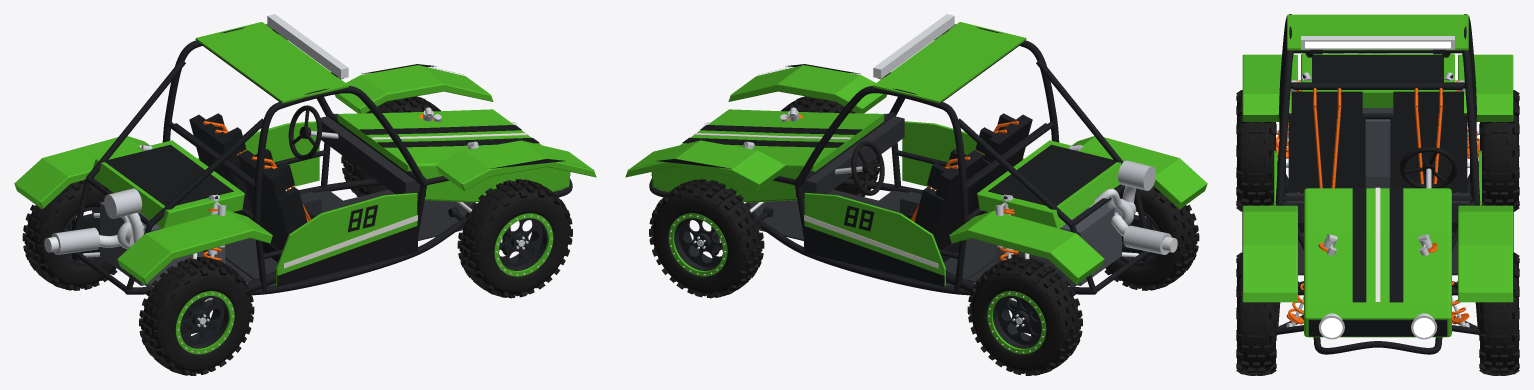
File: viper_rs_turbo.glb
The picture shows the model from 3 angles, left to right: view 1: azimuth 30°, elevation 25°; view 2: azimuth 150°, elevation 25°; view 3: azimuth 270°, elevation 25°; orthographic projection. The views are drawn at different scales.
Visible parts, largest first — view 1: bodywork, roll_cage_chassis, graphics_black, wheel_RR_tyre, wheel_FR_tyre, floor_dash, wheel_RL_tyre, seat_passenger_shell, seat_driver_shell, wheel_FR_rim, wheel_RR_rim, engine (+9 smaller); view 2: bodywork, roll_cage_chassis, graphics_black, wheel_RL_tyre, wheel_FL_tyre, floor_dash, wheel_RR_tyre, seat_driver_shell, engine, seat_passenger_shell, wheel_FL_rim, wheel_RL_rim (+10 smaller); view 3: bodywork, graphics_black, seat_passenger_shell, roll_cage_chassis, seat_driver_shell, wheel_RL_tyre, wheel_RR_tyre, wheel_FL_tyre, wheel_FR_tyre, light_lenses, light_housings, engine (+10 smaller).
Part boxes in pixels (bbox=[...]): bodywork: bbox=[14, 22, 596, 285]; roll_cage_chassis: bbox=[71, 24, 572, 295]; graphics_black: bbox=[105, 64, 592, 286]; wheel_RR_tyre: bbox=[139, 257, 254, 375]; wheel_FR_tyre: bbox=[457, 179, 572, 298]; floor_dash: bbox=[145, 113, 476, 286]; wheel_RL_tyre: bbox=[22, 178, 117, 290]; seat_passenger_shell: bbox=[238, 149, 314, 262]; seat_driver_shell: bbox=[189, 113, 253, 215]; wheel_FR_rim: bbox=[499, 218, 547, 270]; wheel_RR_rim: bbox=[180, 296, 228, 348]; engine: bbox=[100, 201, 225, 285]; bodywork: bbox=[625, 22, 1207, 285]; roll_cage_chassis: bbox=[649, 24, 1151, 295]; graphics_black: bbox=[629, 64, 1116, 286]; wheel_RL_tyre: bbox=[967, 257, 1082, 375]; wheel_FL_tyre: bbox=[649, 179, 764, 298]; floor_dash: bbox=[745, 113, 1076, 286]; wheel_RR_tyre: bbox=[1104, 184, 1199, 290]; seat_driver_shell: bbox=[907, 149, 983, 262]; engine: bbox=[996, 200, 1121, 285]; seat_passenger_shell: bbox=[968, 113, 1032, 215]; wheel_FL_rim: bbox=[674, 218, 722, 270]; wheel_RL_rim: bbox=[993, 296, 1041, 348]; bodywork: bbox=[1242, 14, 1513, 337]; graphics_black: bbox=[1242, 55, 1513, 302]; seat_passenger_shell: bbox=[1288, 91, 1365, 232]; roll_cage_chassis: bbox=[1275, 14, 1480, 354]; seat_driver_shell: bbox=[1390, 91, 1467, 232]; wheel_RL_tyre: bbox=[1479, 90, 1519, 211]; wheel_RR_tyre: bbox=[1236, 90, 1276, 211]; wheel_FL_tyre: bbox=[1479, 252, 1519, 375]; wheel_FR_tyre: bbox=[1236, 252, 1276, 375]; light_lenses: bbox=[1305, 41, 1450, 337]; light_housings: bbox=[1301, 36, 1454, 339]; engine: bbox=[1362, 108, 1393, 176].
Size of the model in its own units: 3.96 by 1.84 by 1.84.
